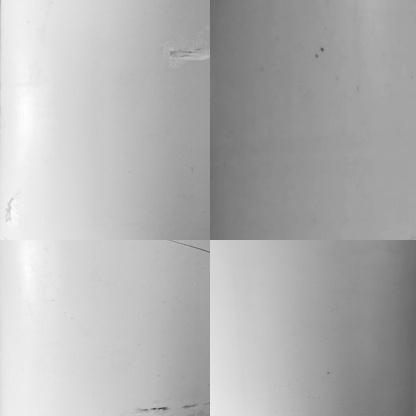sunshang: (165, 41, 211, 62), (166, 236, 212, 255), (4, 190, 25, 227)
